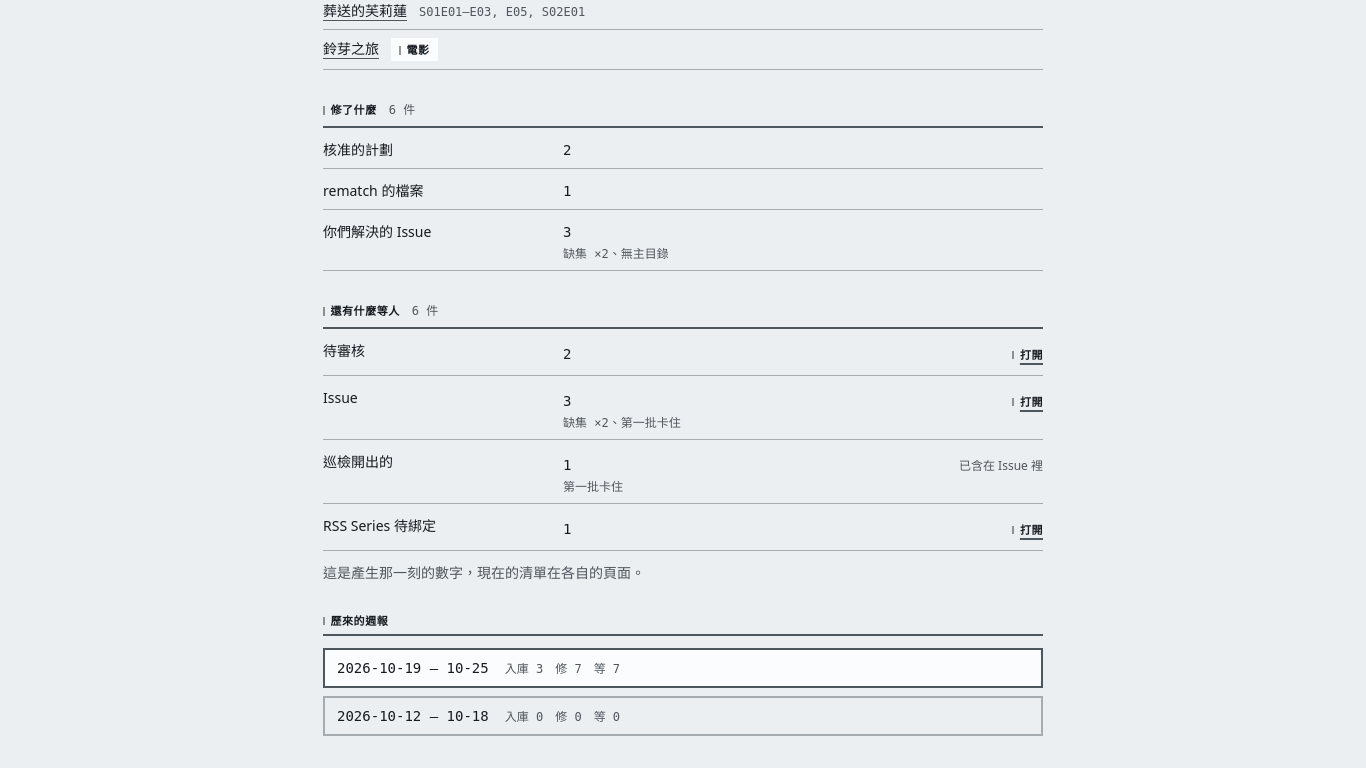
it: 週報頁 › 歷史清單：目前這一週是 aria-current，點到別週換網址與內容
(page scrolled)
Expected: the text "2026-10-19 – 10-25" shows "入庫 3", [505, 662, 543, 676]
Expected: the text "2026-10-19 – 10-25" shows "修 7", [555, 662, 582, 676]
Click the link "2026-10-12 – 10-18 入庫 0 修 0 等 0" at (413, 716), box [323, 696, 1043, 736]
(page scrolled)
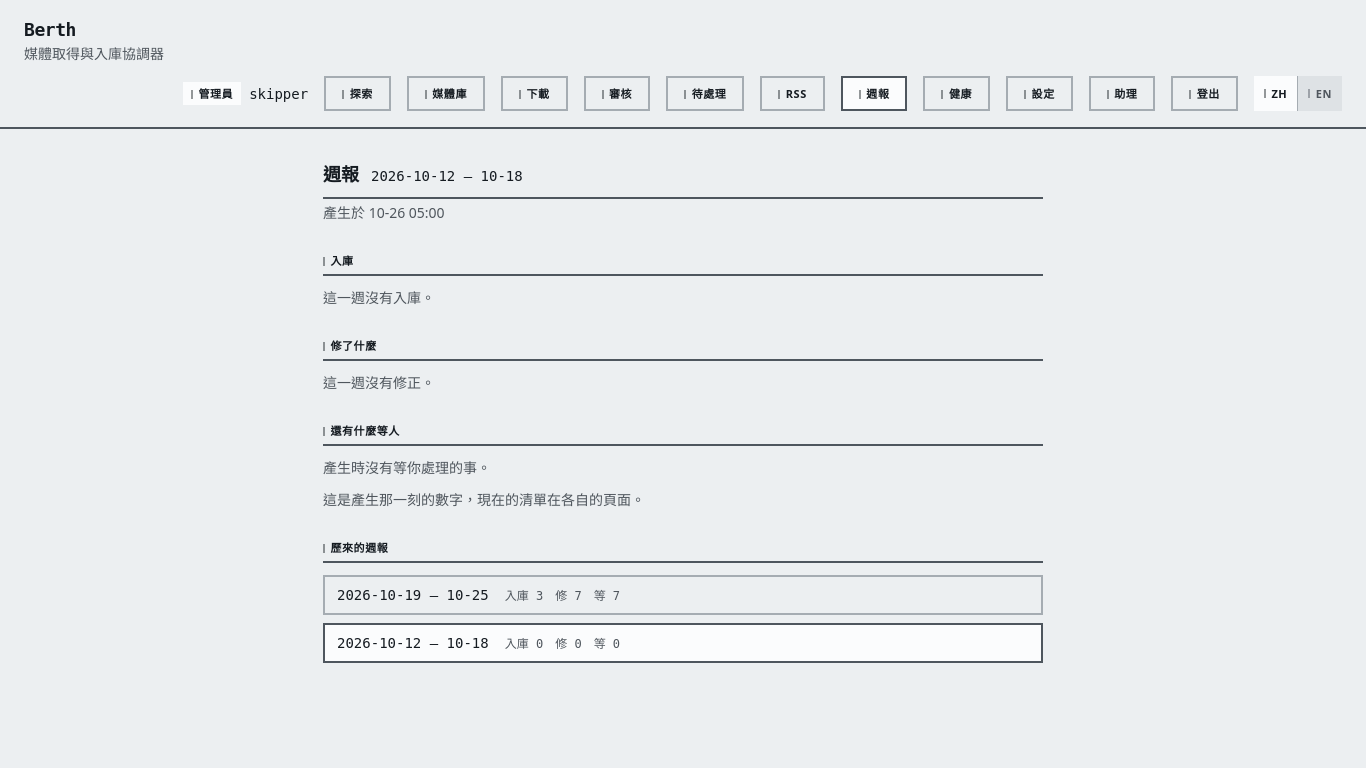
Expected: the 1st text "2026-10-12 – 10-18" is shown, [371, 166, 523, 186]
Expected: the text "2026-10-12 – 10-18" is shown, [337, 635, 489, 651]
